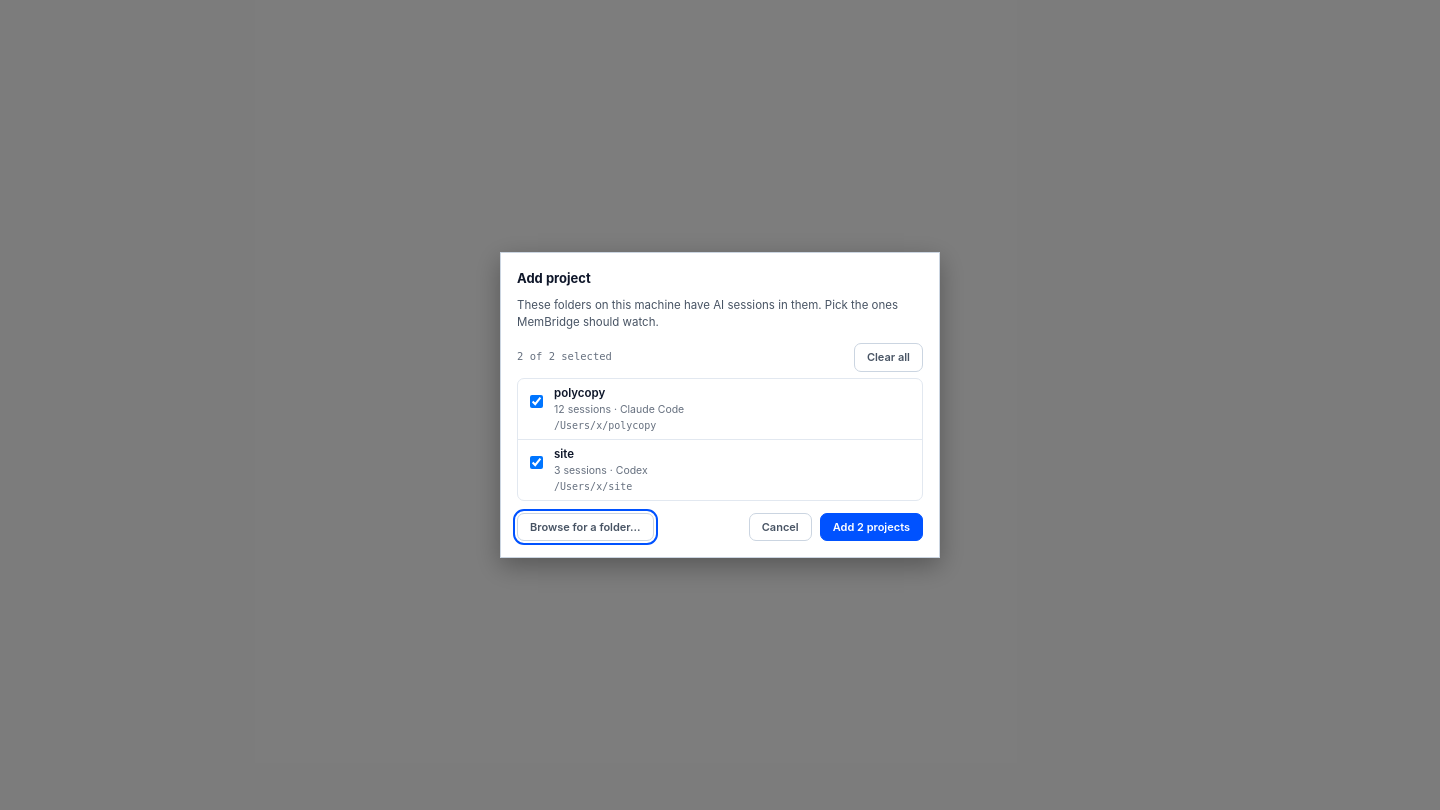
add project without ever typing a path › names the folders that were skipped rather than reporting the sweep as a success
Step 1. Click the button "Add 2 projects" → click(871, 527), box [820, 512, 923, 541]
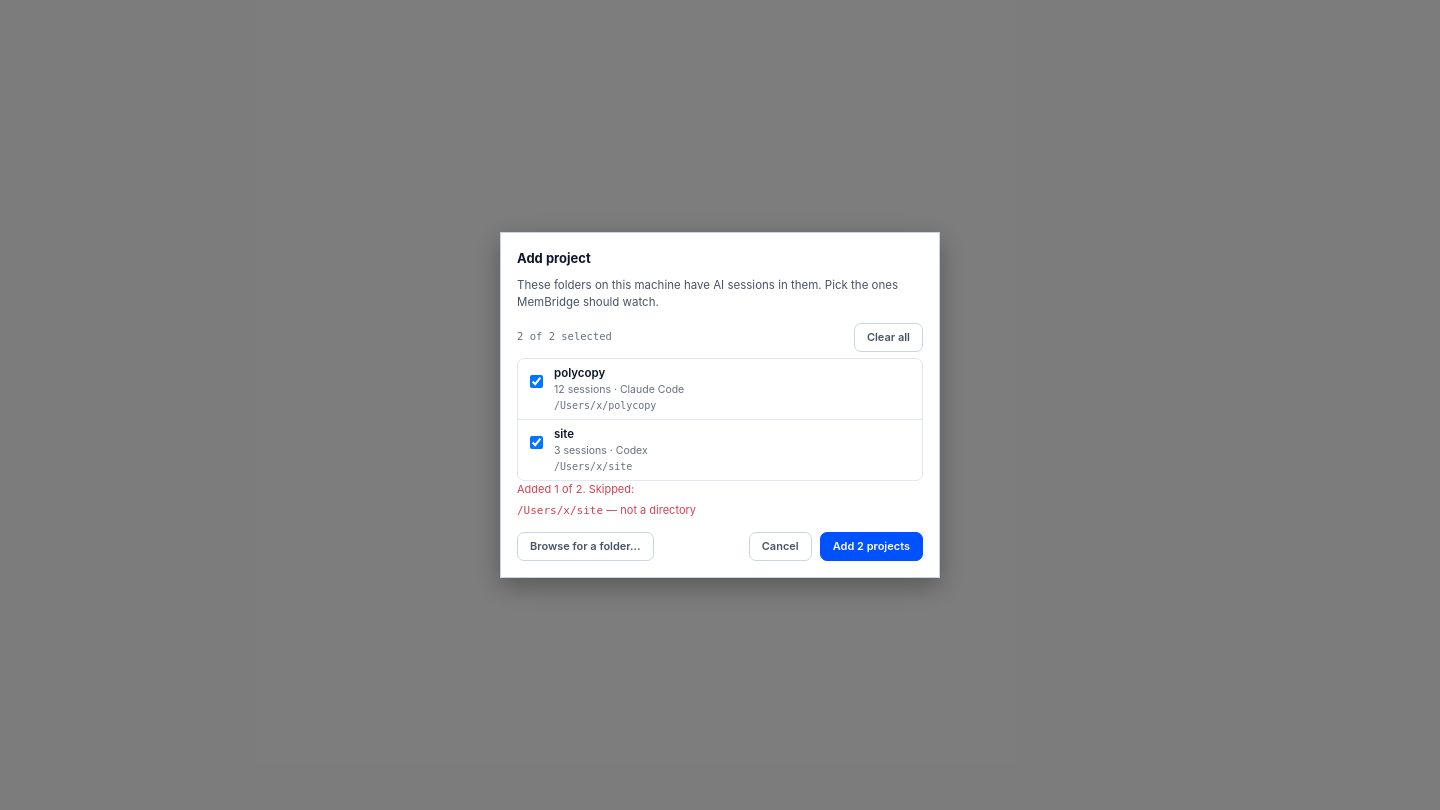
Expected: the message shows "Added 1 of 2", [517, 482, 696, 517]
Expected: the message shows "not a directory", [620, 503, 696, 517]
